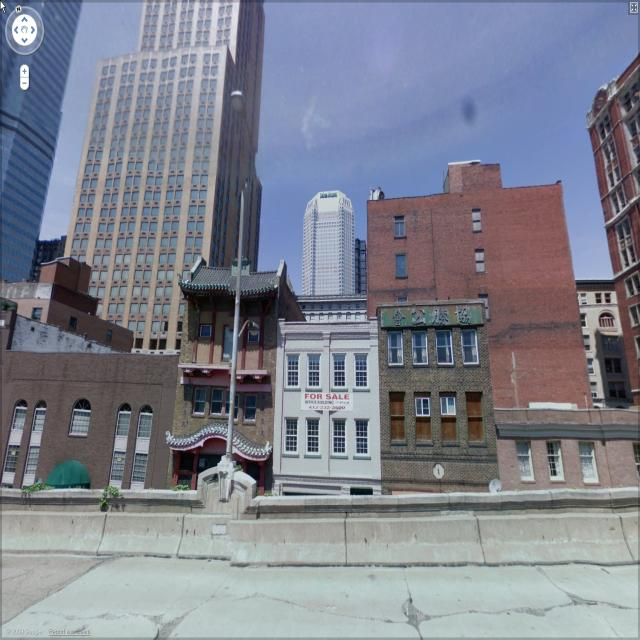b_1: (86, 7, 264, 356), (1, 335, 186, 505), (168, 266, 294, 486), (376, 303, 498, 501), (2, 3, 82, 284), (278, 314, 381, 500), (498, 386, 634, 513), (590, 37, 640, 380), (300, 190, 358, 298), (31, 230, 74, 287), (354, 238, 369, 296)
